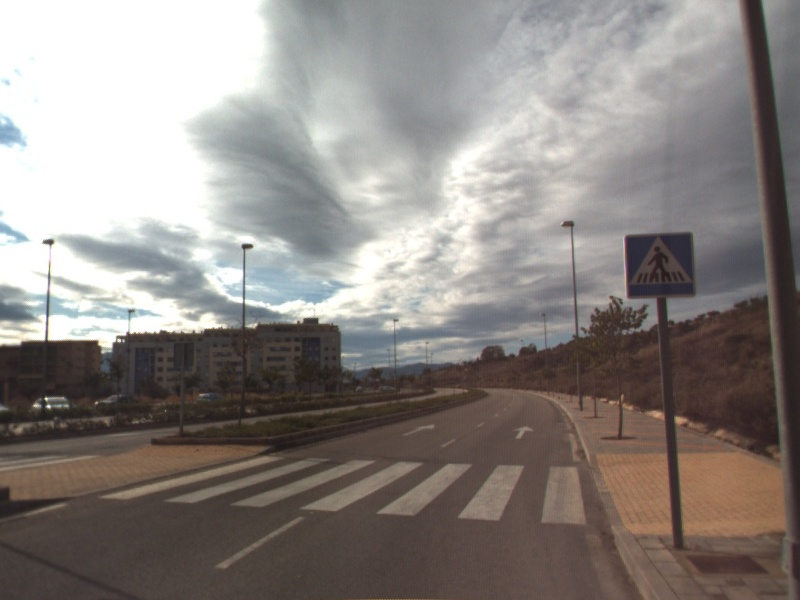STRAIGHT: (400, 422, 436, 438), (511, 423, 536, 441)
